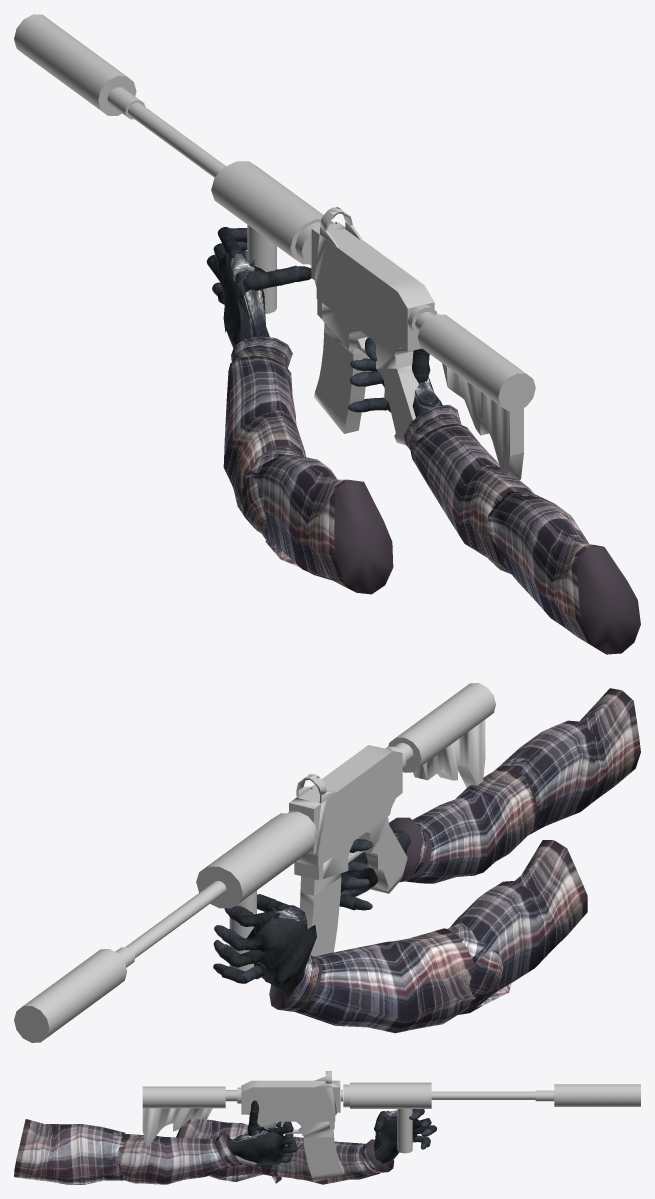
The model's file is m4sopmod_view.fbx.
3 renders of one model, top to bottom at view 1: azimuth 30°, elevation 25°; view 2: azimuth 150°, elevation 25°; view 3: azimuth 270°, elevation 25°, orthographic. The views are drawn at different scales.
Parts seen in each view (by area): view 1: larm, rupperarm, m4_body, m4_stock, rforearm, m4_grip, lhand, m4_silencer, m4_clip, m4_pistolgrip, m4_barrel, m4_tommygrip; view 2: larm, rforearm, rupperarm, m4_body, lhand, m4_stock, m4_grip, m4_silencer, m4_clip, m4_pistolgrip, m4_barrel, m4_tommygrip (+1 smaller); view 3: rupperarm, rforearm, larm, m4_body, m4_stock, m4_grip, m4_silencer, lhand, m4_clip, rhand, m4_barrel, m4_tommygrip (+2 smaller).
Part boxes in pixels (bbox=[...]): larm: bbox=[223, 336, 393, 594]; rupperarm: bbox=[487, 491, 640, 654]; m4_body: bbox=[311, 222, 434, 355]; m4_stock: bbox=[407, 304, 535, 479]; rforearm: bbox=[404, 405, 534, 574]; m4_grip: bbox=[211, 161, 334, 265]; lhand: bbox=[206, 227, 311, 347]; m4_silencer: bbox=[14, 14, 136, 115]; m4_clip: bbox=[314, 322, 368, 433]; m4_pistolgrip: bbox=[376, 342, 426, 444]; m4_barrel: bbox=[107, 87, 225, 177]; m4_tommygrip: bbox=[247, 225, 276, 313]; larm: bbox=[269, 840, 587, 1033]; rforearm: bbox=[389, 765, 540, 883]; rupperarm: bbox=[495, 688, 640, 834]; m4_body: bbox=[289, 745, 402, 880]; lhand: bbox=[213, 894, 316, 1001]; m4_stock: bbox=[385, 683, 495, 787]; m4_grip: bbox=[196, 811, 317, 908]; m4_silencer: bbox=[14, 949, 126, 1042]; m4_clip: bbox=[299, 873, 341, 956]; m4_pistolgrip: bbox=[359, 816, 407, 893]; m4_barrel: bbox=[115, 881, 226, 967]; m4_tommygrip: bbox=[229, 890, 256, 971]; rupperarm: bbox=[14, 1119, 125, 1184]; rforearm: bbox=[115, 1132, 242, 1184]; larm: bbox=[176, 1119, 394, 1184]; m4_body: bbox=[241, 1080, 340, 1135]; m4_stock: bbox=[142, 1086, 241, 1146]; m4_grip: bbox=[341, 1082, 431, 1108]; m4_silencer: bbox=[554, 1084, 640, 1106]; lhand: bbox=[374, 1109, 436, 1163]; m4_clip: bbox=[303, 1129, 344, 1182]; rhand: bbox=[226, 1129, 285, 1165]; m4_barrel: bbox=[431, 1090, 554, 1101]; m4_tommygrip: bbox=[397, 1109, 412, 1153].
Size of the model in its own units: 9.28 by 13.46 by 54.98.
